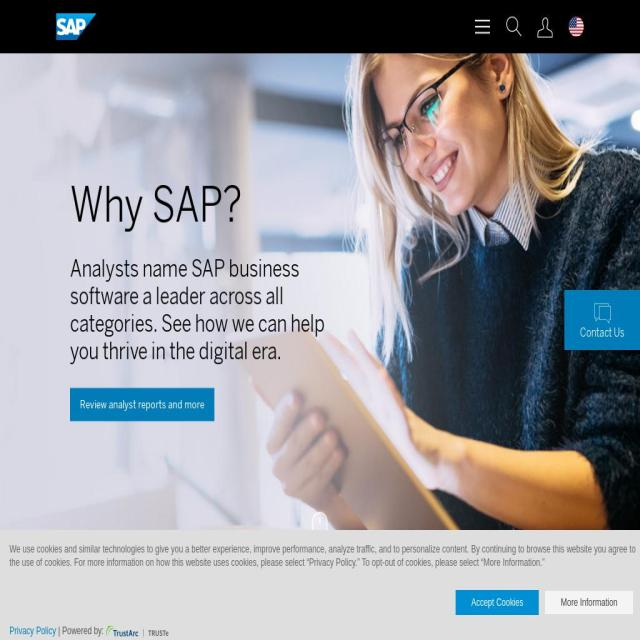button: (70, 388, 214, 422), (70, 607, 171, 640), (202, 607, 303, 640), (335, 607, 436, 640), (467, 607, 568, 640), (544, 590, 634, 615), (455, 590, 539, 615), (467, 0, 498, 53), (498, 0, 529, 53), (529, 0, 560, 53), (560, 0, 591, 53), (600, 607, 640, 640), (56, 13, 98, 40)
heading: (70, 178, 349, 232)
image: (70, 388, 118, 422), (118, 388, 166, 422), (167, 388, 214, 422), (96, 611, 144, 640), (361, 611, 409, 640), (229, 611, 276, 640), (494, 611, 541, 640), (56, 13, 98, 40), (105, 623, 168, 640), (627, 611, 640, 640), (568, 16, 584, 36)
link: (54, 607, 585, 640), (573, 607, 626, 640), (9, 625, 56, 637)
text: (70, 254, 349, 365), (9, 543, 640, 569), (80, 398, 204, 411), (580, 326, 624, 340), (56, 625, 106, 637), (318, 516, 320, 537)
